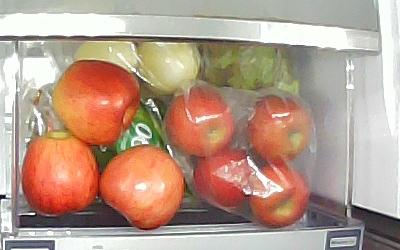apple: (50, 60, 139, 147), (100, 143, 185, 230), (22, 133, 99, 216)
apple_vinyl: (162, 86, 236, 157), (246, 95, 311, 167), (251, 164, 309, 229), (195, 148, 254, 208)
